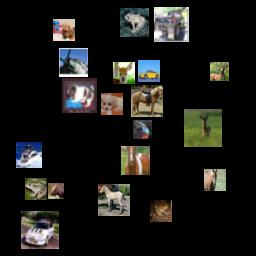airplane: (59, 48, 88, 77)
automobile: (21, 211, 59, 249), (138, 60, 160, 82)
bird: (133, 120, 152, 139)
deer: (184, 109, 222, 147), (113, 62, 135, 84), (210, 62, 229, 81), (48, 183, 64, 199)
dog: (62, 78, 97, 113), (101, 93, 123, 115), (53, 19, 75, 41)
frog: (120, 8, 149, 37), (150, 200, 172, 222), (25, 178, 47, 200)
ship: (16, 142, 42, 168)
truck: (154, 7, 189, 42)
